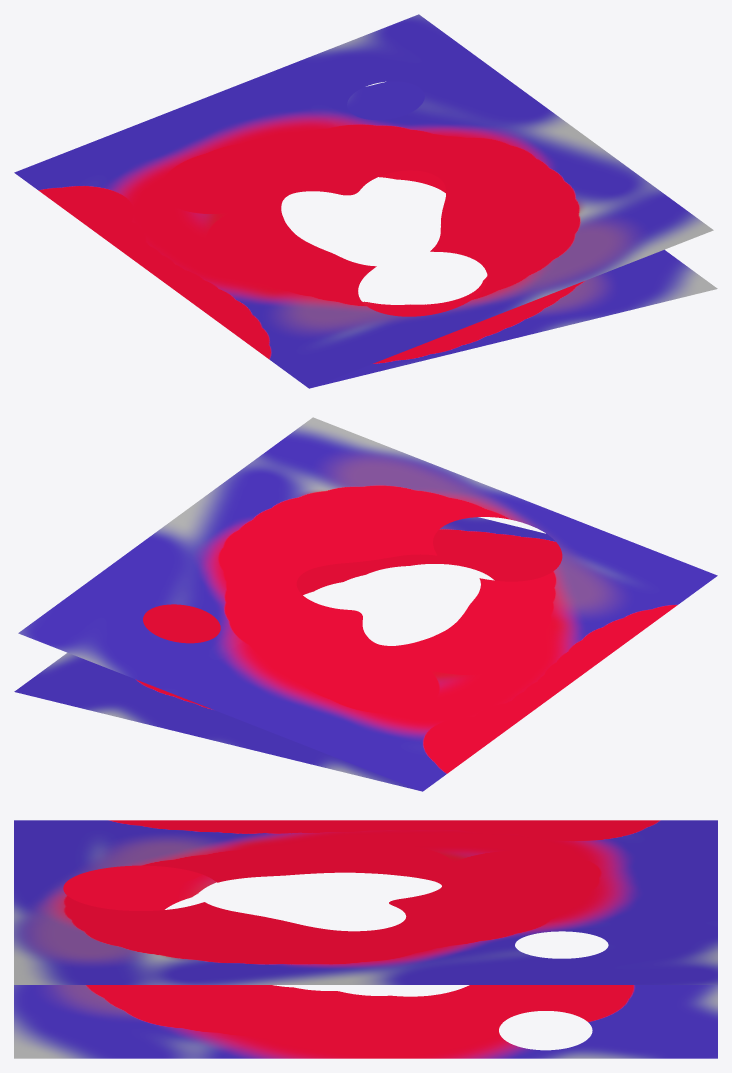
File: v6Herbarium.fbx
3 renders of one model, top to bottom at view 1: azimuth 30°, elevation 25°; view 2: azimuth 150°, elevation 25°; view 3: azimuth 270°, elevation 25°, orthographic. The views are drawn at different scales.
Parts seen in each view (by area): view 1: Planeup, Planlowplane; view 2: Planeup, Planlowplane; view 3: Planeup, Planlowplane.
Part boxes in pixels (x1,y1,x2,y2): Planeup: (14, 14, 713, 388); Planlowplane: (310, 81, 717, 388); Planeup: (18, 417, 717, 791); Planlowplane: (14, 517, 562, 791); Planeup: (14, 820, 717, 984); Planlowplane: (14, 865, 717, 1058).
Bounding box in the file's own units: 160 × 22.27 × 200.
